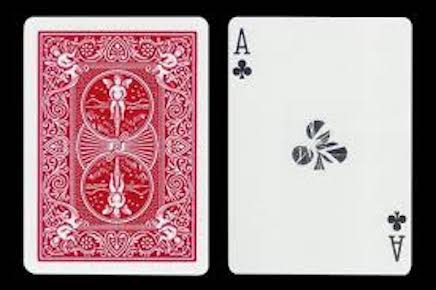AceOfClubs: (223, 13, 422, 278)
